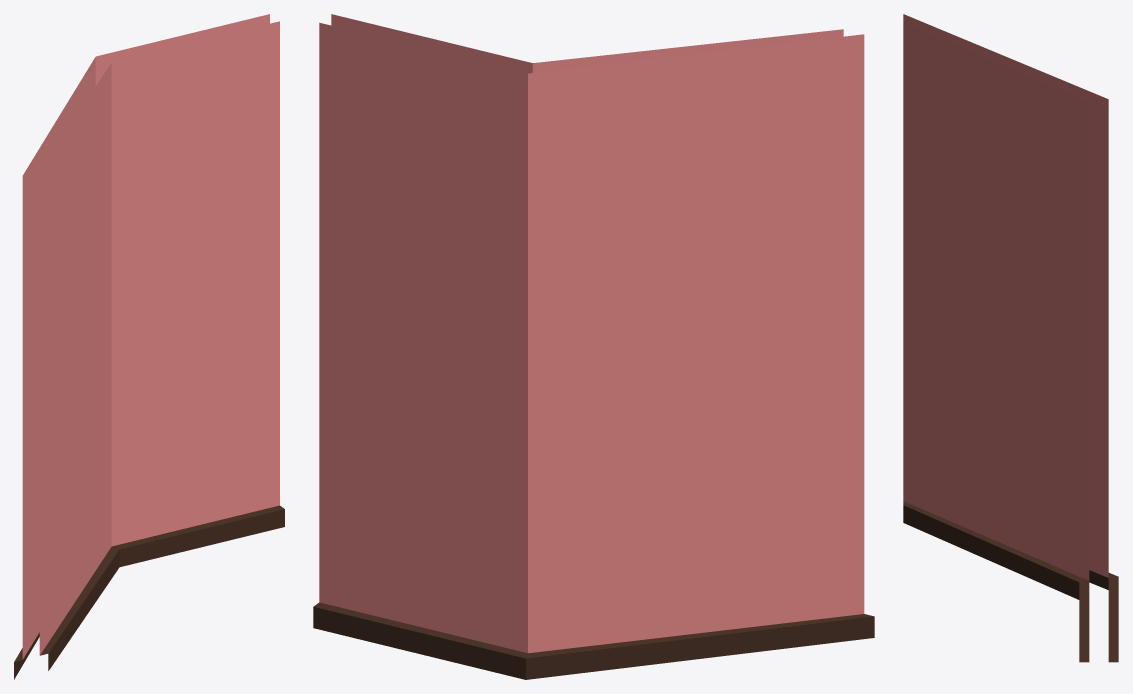
Rendered from SM_Angle_45_Gauche_1x2.fbx.
3 renders of one model, left to right at view 1: azimuth 30°, elevation 25°; view 2: azimuth 150°, elevation 25°; view 3: azimuth 270°, elevation 25°, orthographic. The views are drawn at different scales.
Visible parts, largest first — view 1: SM_Angle_45_Gauche_1x2; view 2: SM_Angle_45_Gauche_1x2; view 3: SM_Angle_45_Gauche_1x2.
Part boxes in pixels (x1,y1,x2,y2): SM_Angle_45_Gauche_1x2: [14, 14, 284, 679]; SM_Angle_45_Gauche_1x2: [313, 14, 874, 679]; SM_Angle_45_Gauche_1x2: [903, 14, 1118, 662].
Size of the model in its own units: 2.1 by 2.8 by 1.1.
